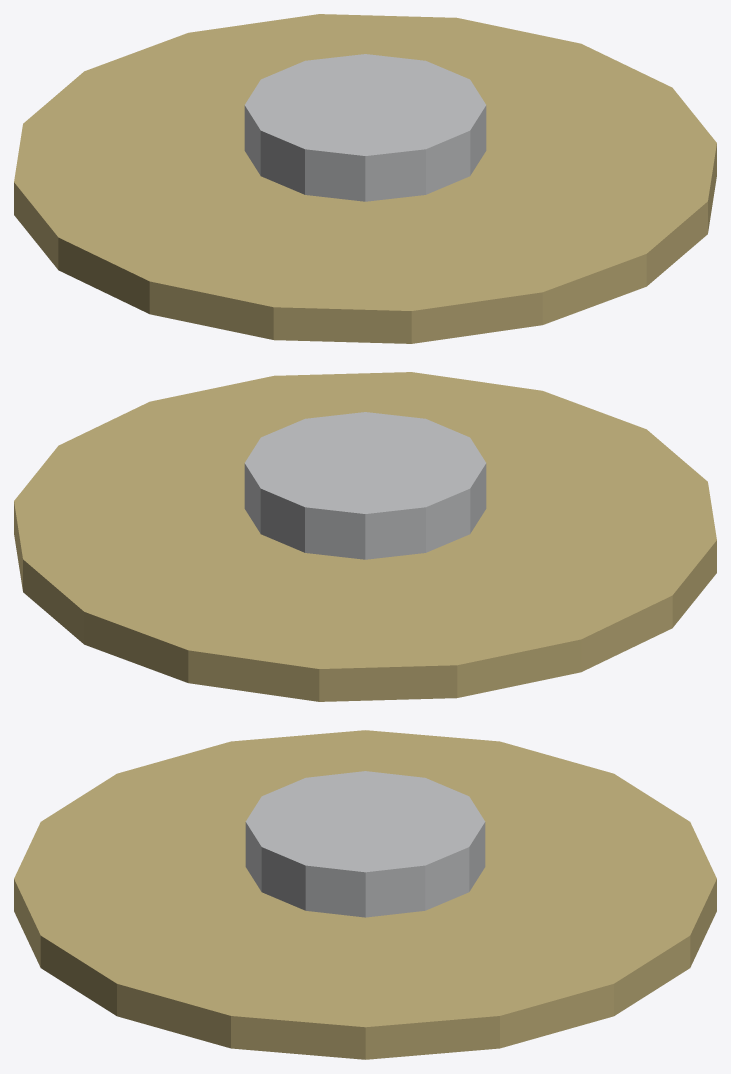
3 renders of one model, top to bottom at view 1: azimuth 30°, elevation 25°; view 2: azimuth 150°, elevation 25°; view 3: azimuth 270°, elevation 25°, orthographic.
Visible parts, largest first — view 1: __PSMAT__Gold_ENIG, __PSMAT__Solder_Silver; view 2: __PSMAT__Gold_ENIG, __PSMAT__Solder_Silver; view 3: __PSMAT__Gold_ENIG, __PSMAT__Solder_Silver.
Boxes of the visible parts, box(x1,y1,x2,y2) form: __PSMAT__Gold_ENIG: box(14, 14, 716, 343); __PSMAT__Solder_Silver: box(244, 54, 486, 201); __PSMAT__Gold_ENIG: box(14, 372, 716, 701); __PSMAT__Solder_Silver: box(244, 412, 486, 559); __PSMAT__Gold_ENIG: box(14, 730, 716, 1059); __PSMAT__Solder_Silver: box(245, 771, 485, 917).
Size of the model in its own units: 0.00352 by 0.000495 by 0.00352.
